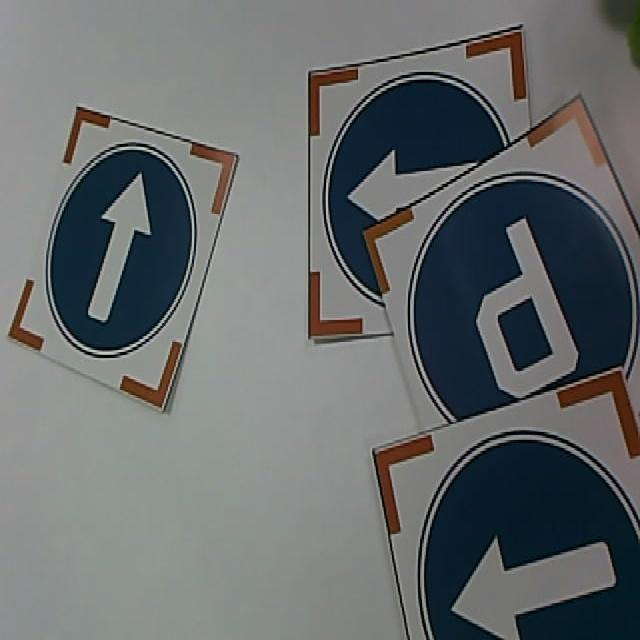parking: (409, 173, 640, 422)
straight: (418, 430, 640, 640), (325, 80, 510, 310), (48, 143, 193, 355)
